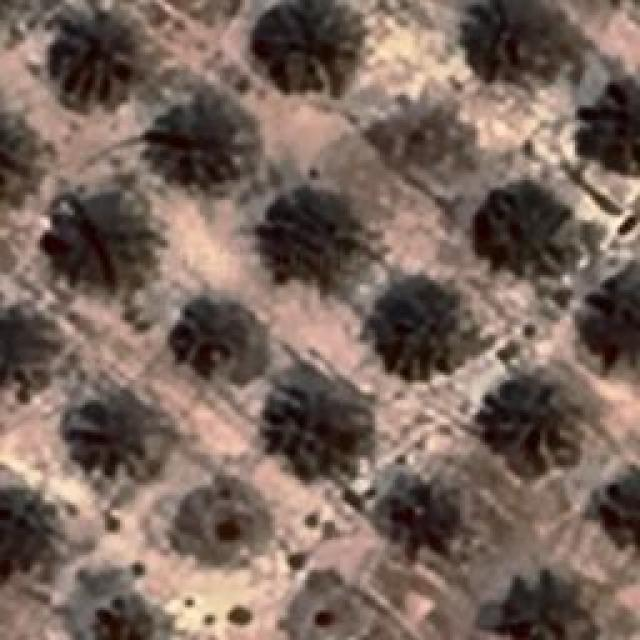PalmTree: (47, 95, 615, 505), (365, 278, 480, 378), (258, 375, 362, 485), (252, 0, 360, 95), (480, 368, 575, 470), (474, 185, 578, 278), (42, 6, 136, 106), (52, 190, 148, 285), (379, 465, 469, 555), (458, 0, 558, 80), (156, 98, 249, 184), (271, 195, 351, 280), (68, 385, 142, 475), (0, 482, 55, 586), (499, 570, 579, 640), (176, 297, 244, 375), (0, 311, 52, 401), (587, 272, 640, 359), (597, 82, 640, 172), (84, 591, 162, 640), (0, 0, 39, 53)
